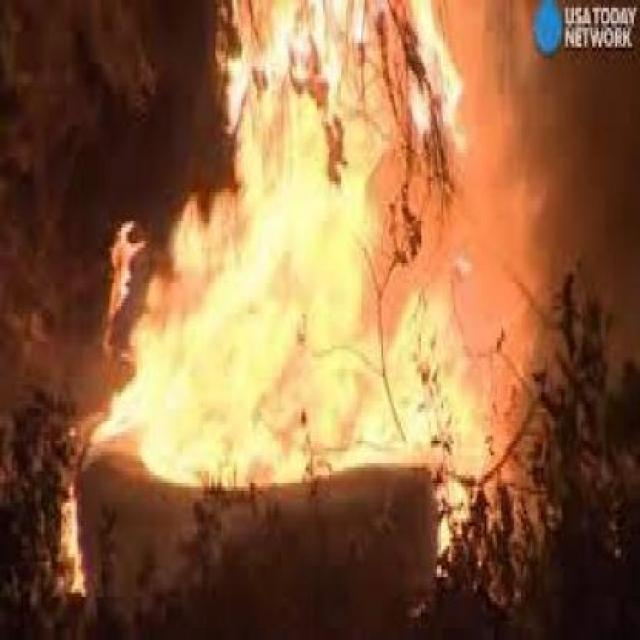Fire: (65, 55, 547, 558)
